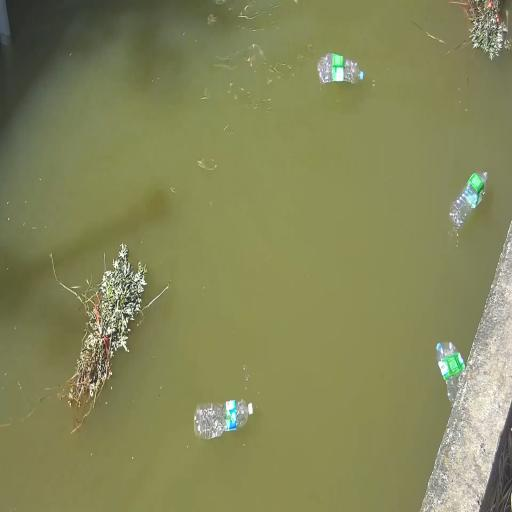plastic: (194, 401, 253, 439), (450, 172, 487, 230), (436, 343, 465, 405), (318, 54, 363, 83)
twig: (52, 244, 146, 431), (461, 0, 510, 60)
